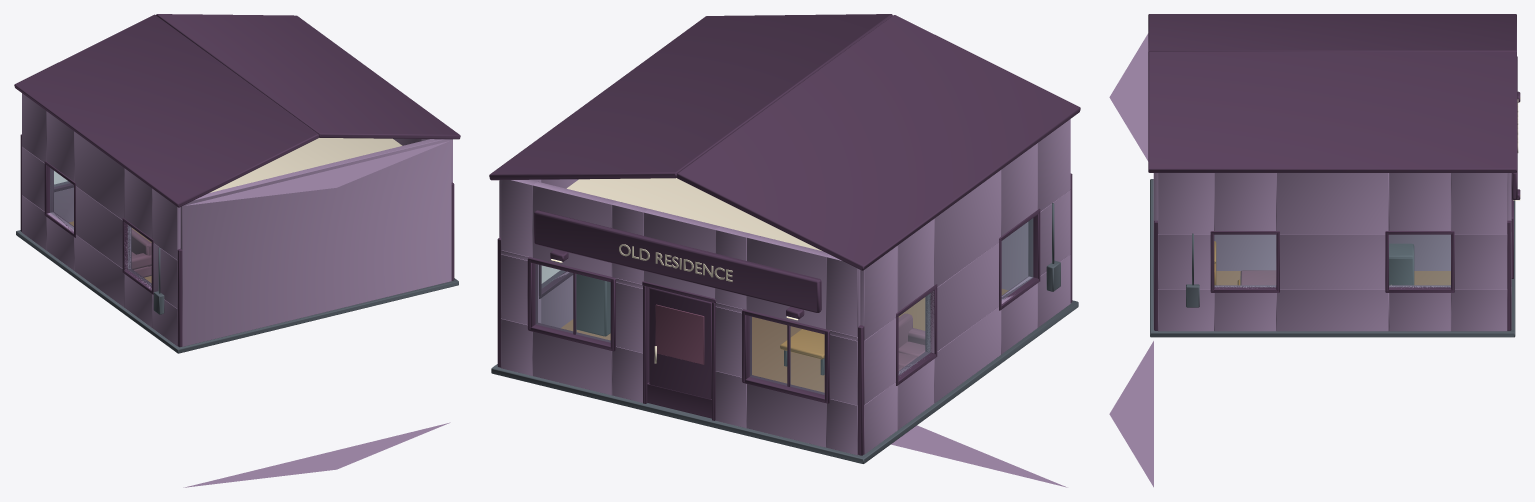
Rendered from home.glb.
The picture shows the model from 3 angles, left to right: view 1: azimuth 30°, elevation 25°; view 2: azimuth 150°, elevation 25°; view 3: azimuth 270°, elevation 25°; orthographic projection. The views are drawn at different scales.
Visible parts, largest first — view 1: shell_3_wall, roof_3_trim, roof_3_wall, shell_3_metal, shell_3_trim, roof_3_ivory, glass_3_glass, interior_3_cloth.002; view 2: roof_3_trim, shell_3_wall, shell_3_trim, glass_3_glass, shell_3_metal, roof_3_ivory, shell_3_floor, door_3_trim, door_3_cloth, roof_3_wall, interior_3_metal.003, interior_3_cloth.002 (+2 smaller); view 3: roof_3_trim, shell_3_wall, glass_3_glass, roof_3_wall, shell_3_trim, shell_3_metal, interior_3_metal.003, shell_3_floor, interior_3_cloth.002.
Part boxes in pixels (<box>): shell_3_wall: <box>22,93,452,346</box>; roof_3_trim: <box>14,14,460,207</box>; roof_3_wall: <box>183,141,450,487</box>; shell_3_metal: <box>16,230,458,353</box>; shell_3_trim: <box>20,134,454,347</box>; roof_3_ivory: <box>209,138,402,192</box>; glass_3_glass: <box>50,168,151,286</box>; interior_3_cloth.002: <box>131,229,151,277</box>; roof_3_trim: <box>489,14,1080,270</box>; shell_3_wall: <box>499,119,1070,455</box>; shell_3_trim: <box>497,173,1072,455</box>; glass_3_glass: <box>535,218,1032,394</box>; shell_3_metal: <box>491,203,1078,463</box>; roof_3_ivory: <box>566,178,821,250</box>; shell_3_floor: <box>561,289,1008,392</box>; door_3_trim: <box>649,287,711,399</box>; door_3_cloth: <box>655,304,704,364</box>; roof_3_wall: <box>891,425,1067,487</box>; interior_3_metal.003: <box>576,274,824,375</box>; interior_3_cloth.002: <box>898,313,925,370</box>; roof_3_trim: <box>1148,14,1516,172</box>; shell_3_wall: <box>1153,173,1511,331</box>; glass_3_glass: <box>1214,235,1450,286</box>; roof_3_wall: <box>1109,33,1153,487</box>; shell_3_trim: <box>1154,56,1520,330</box>; shell_3_metal: <box>1150,179,1515,337</box>; interior_3_metal.003: <box>1389,243,1414,285</box>; shell_3_floor: <box>1216,271,1450,285</box>; interior_3_cloth.002: <box>1240,270,1276,285</box>.
Bounding box in the file's own units: 9.58 × 10.31 × 10.59.
